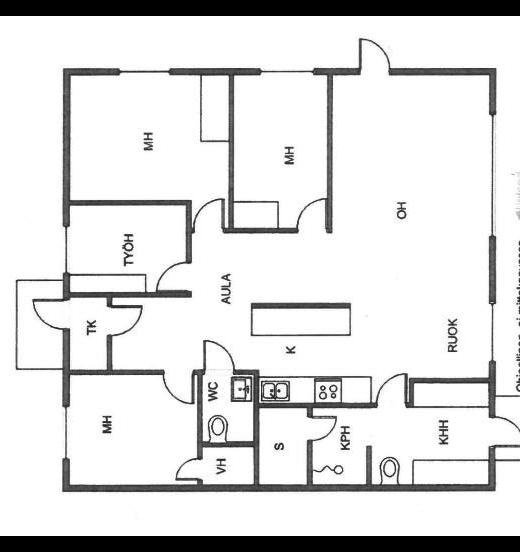door: (292, 195, 330, 236), (358, 34, 392, 76), (30, 295, 68, 332), (154, 259, 194, 294), (105, 302, 143, 338), (191, 197, 225, 237), (161, 368, 195, 406), (200, 338, 236, 372), (488, 411, 520, 449), (374, 373, 408, 405), (306, 412, 336, 441), (174, 455, 202, 481)
window: (485, 108, 499, 240), (255, 66, 319, 80), (60, 399, 72, 466), (486, 299, 498, 365), (114, 66, 176, 78), (60, 221, 72, 279)
